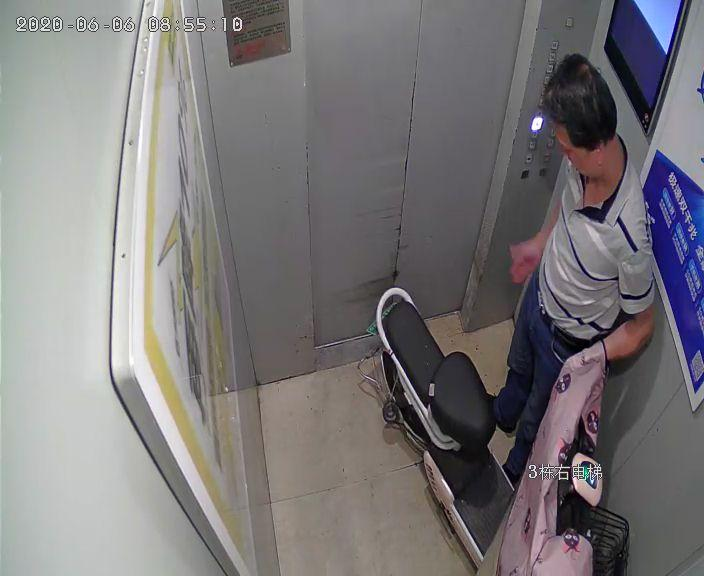Electric-bicycle: (370, 287, 630, 573)
